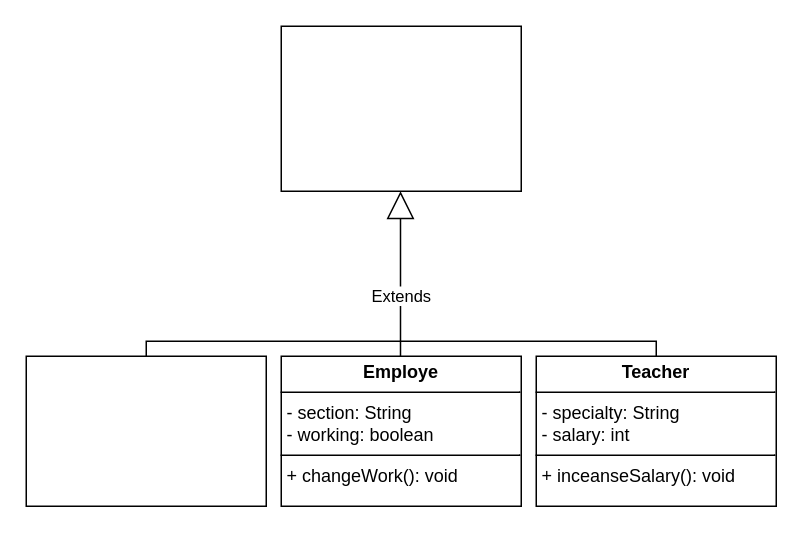
The diagram is 803 pixels wide and 533 high, and some of its shapes have lost their labels. The centre of each missing label's shape, as x and y in pixels:
"Person - name: String - age: int - sex: char + haveBirth(): void" belongs at pixel 400 108.
"Student - enrollment: int - course: String + cancelEnrollment(): void" belongs at pixel 145 430.
